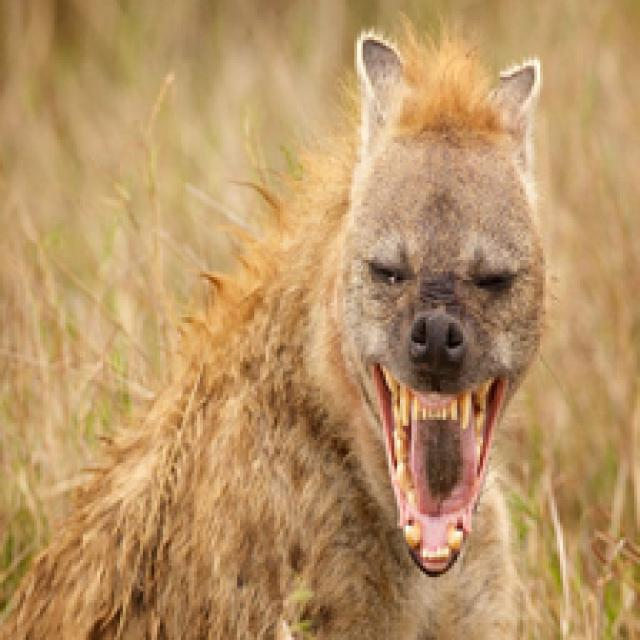hyena: (11, 33, 571, 640)
